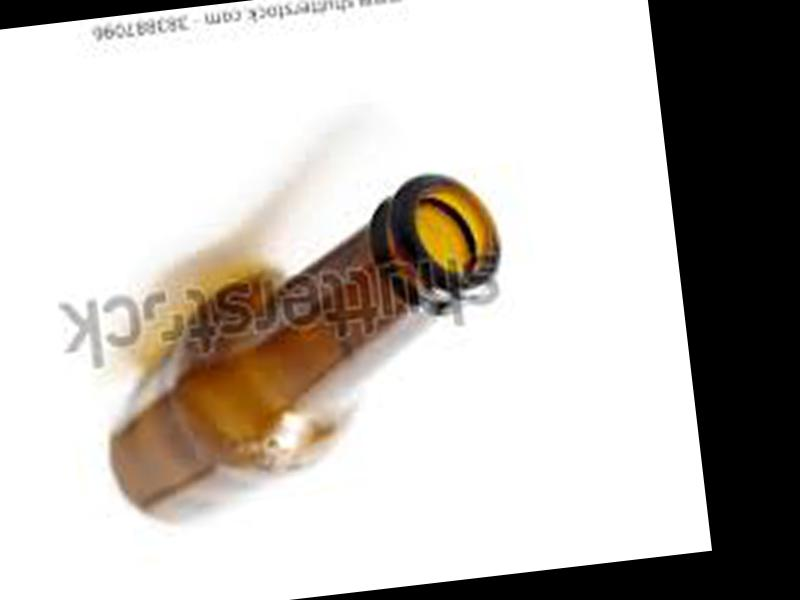Beer: (80, 164, 529, 529)
